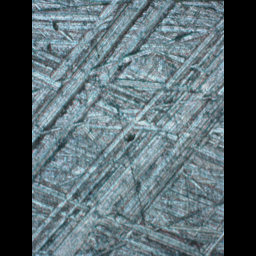d: (33, 0, 223, 250)
